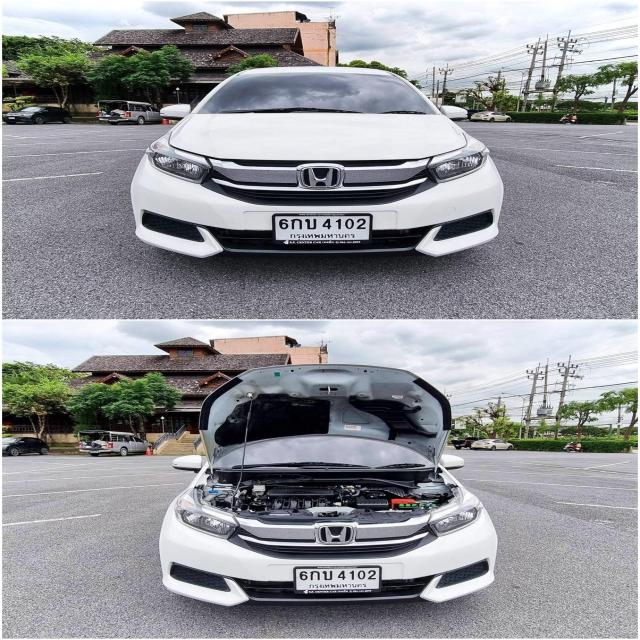license_plate: (270, 208, 373, 250), (295, 565, 385, 595)
